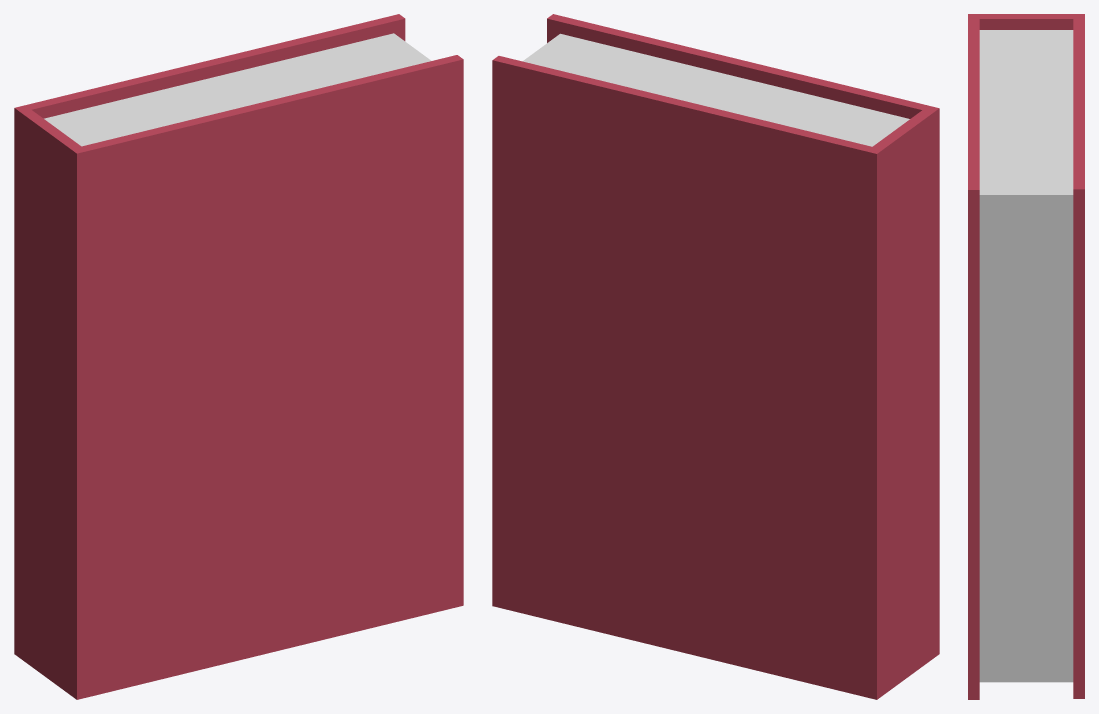
File: book.gltf
3 renders of one model, left to right at view 1: azimuth 30°, elevation 25°; view 2: azimuth 150°, elevation 25°; view 3: azimuth 270°, elevation 25°, orthographic. The views are drawn at different scales.
Visible parts, largest first — view 1: cover, page; view 2: cover, page; view 3: page, cover.
Part boxes in pixels (box(x1,y1,x2,y2)): cover: box(14, 14, 463, 699); page: box(44, 33, 431, 146); cover: box(492, 14, 939, 699); page: box(522, 33, 909, 146); page: box(979, 30, 1073, 682); cover: box(968, 14, 1084, 699).
Bounding box in the file's own units: 1.15 × 1.55 × 0.322.
